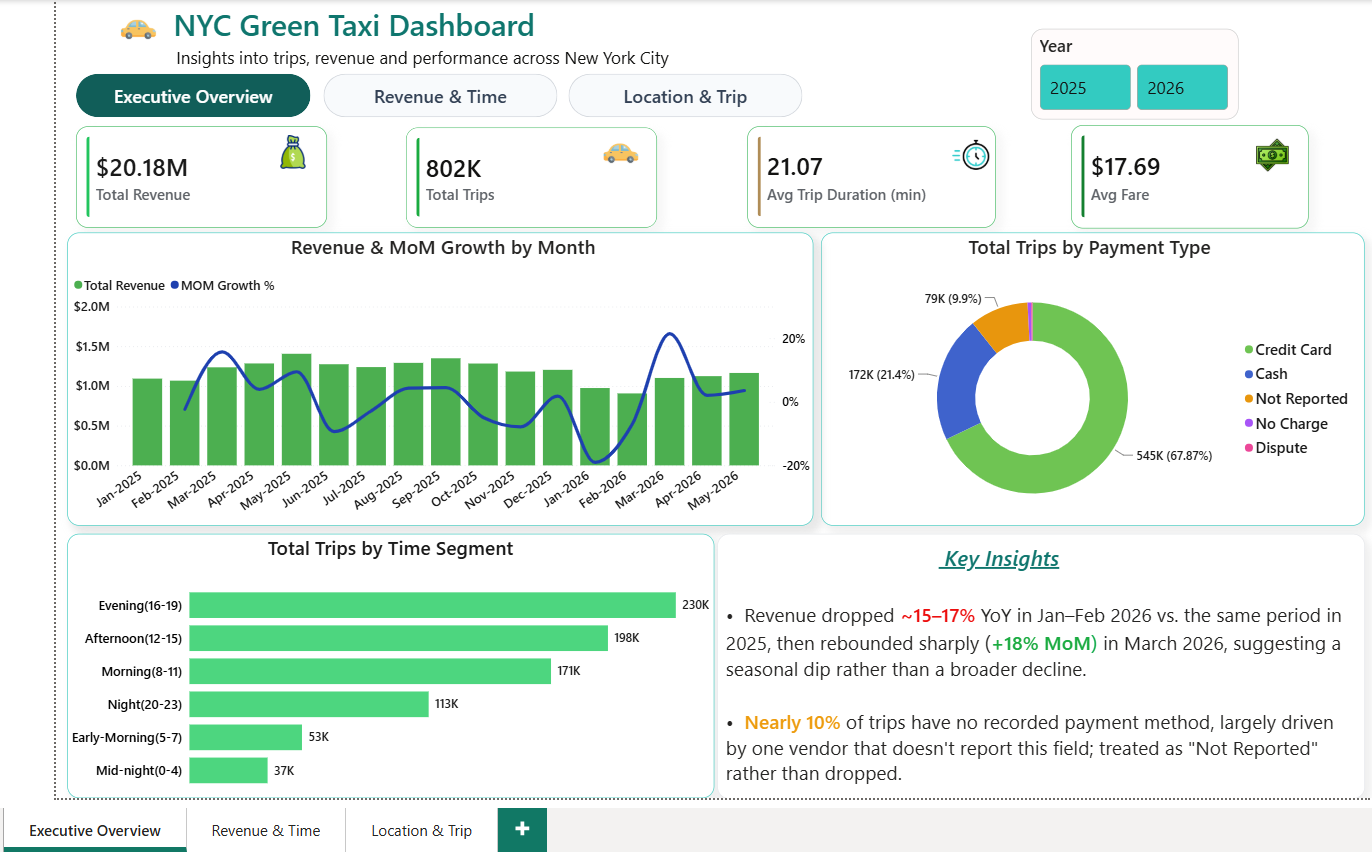

What the dashboard file says about the page in this screenshot:
{"tool":"powerbi","page":{"name":"Executive Overview","canvas":[1650,1000],"ordinal":0},"visuals":[{"type":"cardVisual","fields":{"Data":["_Measure .Total Revenue"]},"box":[15.7,159.7,314.2,127.4],"z":0},{"type":"cardVisual","fields":{"Data":["_Measure .Total Trips"]},"box":[447.7,158.1,314.2,125.7],"z":1000},{"type":"cardVisual","fields":{"Data":["_Measure .Avg Fare"]},"box":[1270.4,156.3,297.4,129.9],"z":2000},{"type":"cardVisual","fields":{"Data":["_Measure .Avg Trip Duration (min)"]},"box":[866.2,157.9,311.5,126.8],"z":3000},{"type":"image","box":[825.4,20.4,68.9,53.2],"z":4000},{"type":"image","box":[274,170.6,45.4,42.3],"z":5000},{"type":"image","box":[1119.3,173.8,45,42],"z":6000},{"type":"donutChart","fields":{"Category":["green_taxi.Payment Type"],"Y":["_Measure .Total Trips"]},"box":[957.9,290.4,686,372],"z":7000},{"type":"lineStackedColumnComboChart","title":"Revenue & MoM Growth by Month","fields":{"Category":["Calender Table.Month Year"],"Y":["_Measure .Total Revenue"],"Y2":["_Measure .MOM Growth %"]},"box":[13.6,290.4,940,369],"z":8000},{"type":"textbox","box":[68.9,0,823.4,92.4],"z":9000},{"type":"actionButton","box":[25.5,91.7,293.8,54.3],"z":10000},{"type":"actionButton","box":[334.6,91.7,293,54.3],"z":11000},{"type":"actionButton","box":[642,91.7,293,54.3],"z":12000},{"type":"image","box":[86.1,0,68.9,45.4],"z":13000},{"type":"textbox","box":[908,668.4,735,331.9],"z":14000},{"type":"image","box":[698.2,172.2,50,42],"z":15000},{"type":"image","box":[1510.7,175.3,45,42],"z":16000},{"type":"advancedSlicerVisual","fields":{"Values":["Calender Table.Year"]},"box":[1250.8,23.5,259.9,114.3],"z":17000},{"type":"clusteredBarChart","fields":{"Category":["green_taxi.time_segment"],"Y":["_Measure .Total Trips"]},"box":[11,663.7,888,331.9],"z":18000}]}

Visuals, with their boxes in screenshot pixels (x1, y1, x2, y2), scaled from the page's 1650x1000 canvas onto the 1372x852 screenshot:
cardVisual - _Measure .Total Revenue: [13,136,274,245]
cardVisual - _Measure .Total Trips: [372,135,634,242]
cardVisual - _Measure .Avg Fare: [1056,133,1304,244]
cardVisual - _Measure .Avg Trip Duration (min): [720,135,979,243]
image: [686,17,744,63]
image: [228,145,266,181]
image: [931,148,968,184]
donutChart - green_taxi.Payment Type x _Measure .Total Trips: [797,247,1367,564]
"Revenue & MoM Growth by Month" lineStackedColumnComboChart: [11,247,793,562]
textbox: [57,0,742,79]
actionButton: [21,78,266,124]
actionButton: [278,78,522,124]
actionButton: [534,78,777,124]
image: [72,0,129,39]
textbox: [755,569,1366,851]
image: [581,147,622,182]
image: [1256,149,1294,185]
advancedSlicerVisual - Calender Table.Year: [1040,20,1256,117]
clusteredBarChart - green_taxi.time_segment x _Measure .Total Trips: [9,565,748,848]
